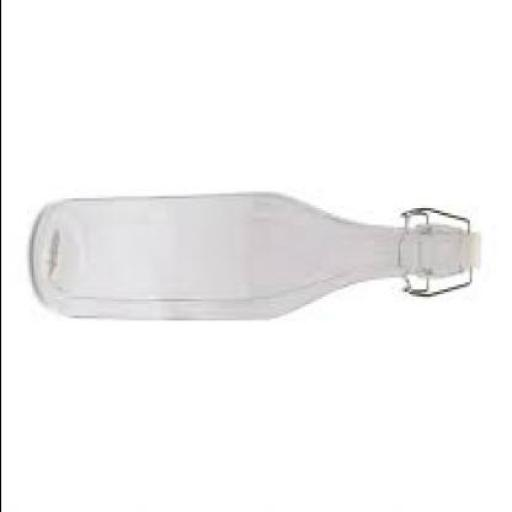glass: (34, 201, 472, 323)
plastic: (471, 235, 482, 270)
